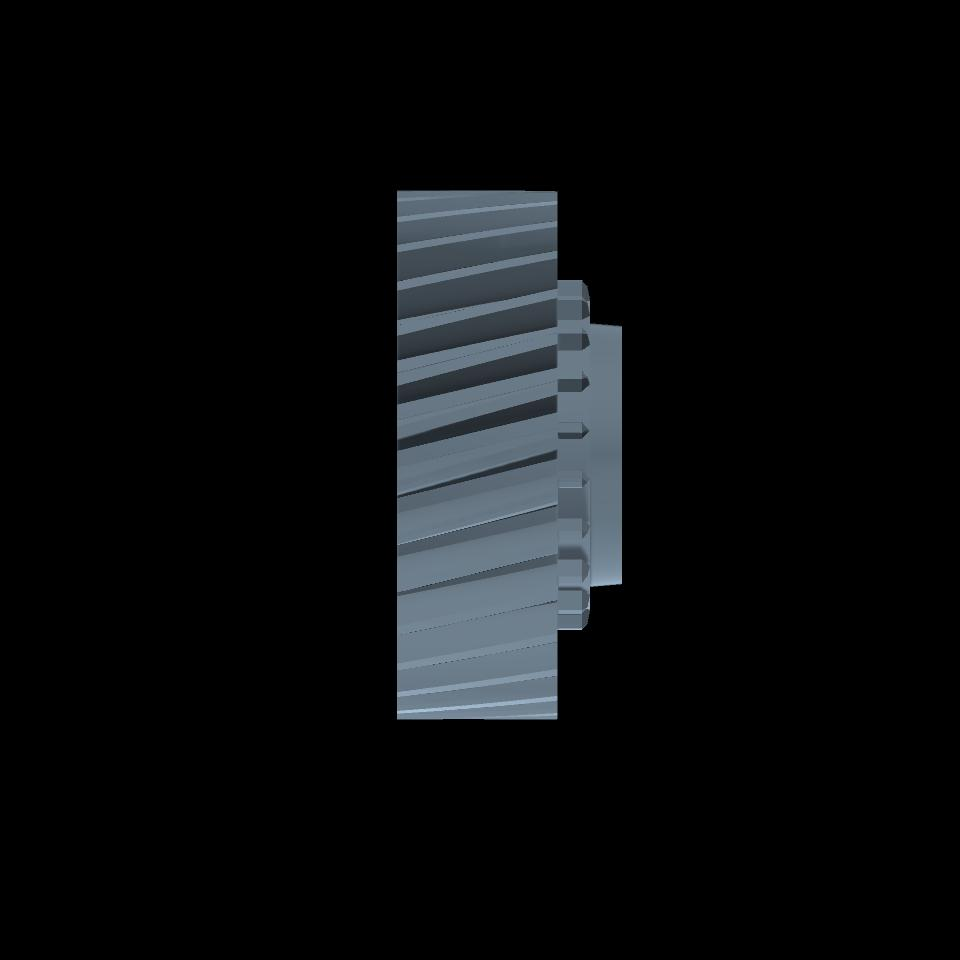Helical: (397, 191, 556, 718)
Straight: (558, 281, 583, 630)
